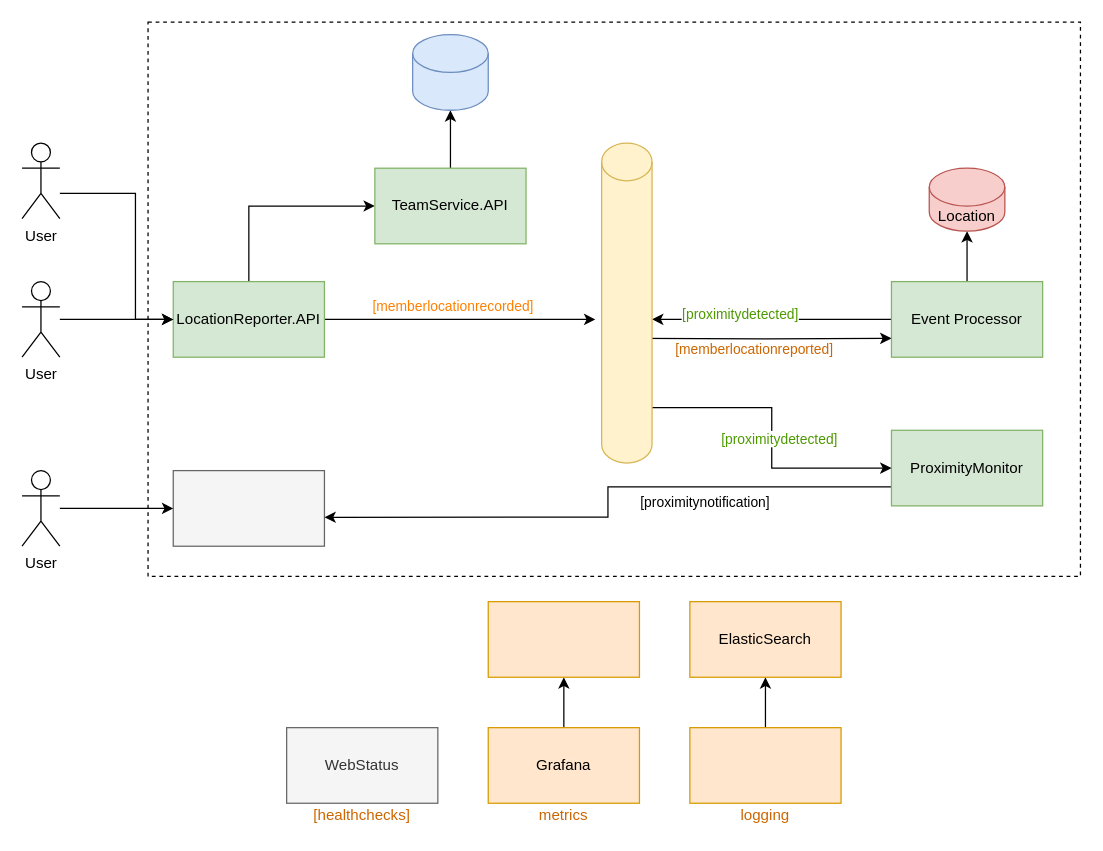
Some shapes in this 1103 by 851 pixel diagram are drawn without their labels. Each missing label, with the box of its shape:
Kibana: (689, 726, 841, 803)
Monitor.UI: (172, 469, 324, 546)
Prometheus: (487, 600, 639, 677)
Service Bus: (600, 142, 652, 463)
TeamMonitoring: (411, 33, 488, 110)
